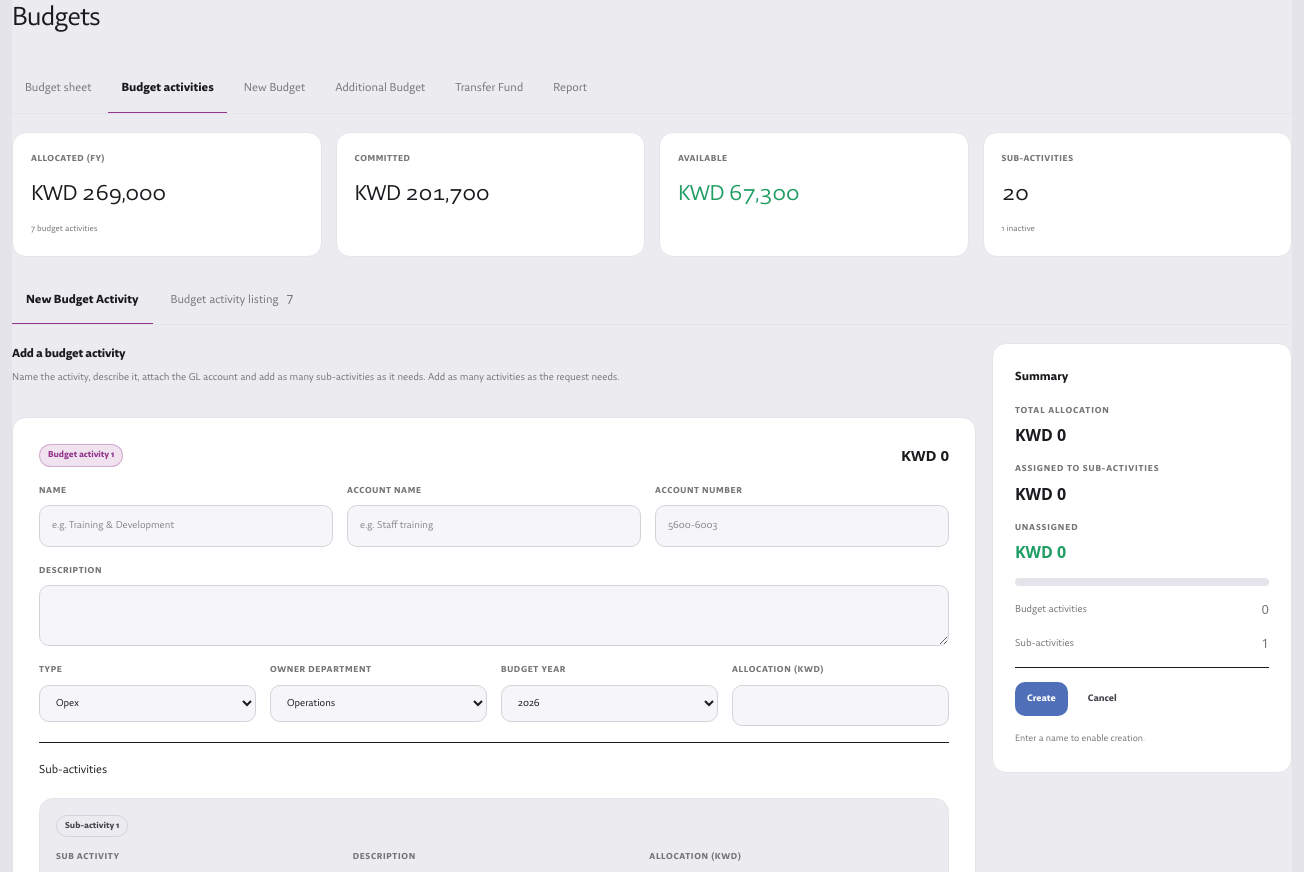
Test: HomeBudgetingPage › creates a local budget activity and exposes it in the listing
Step 1. Type "Training & Development" into the field labelled "Name" → (186, 526), box 39,505 -> 333,547
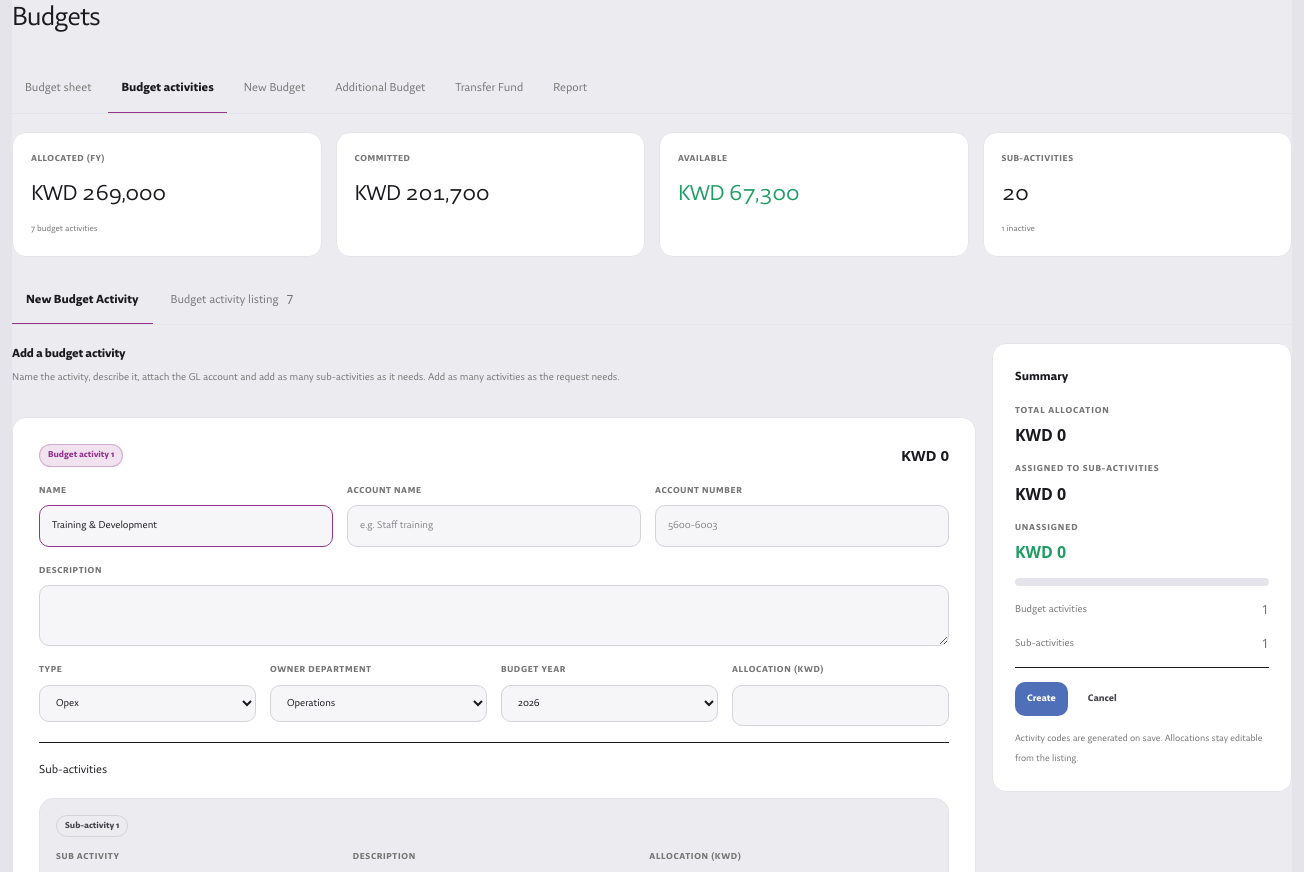
Step 2. Click the button "Create" → (1041, 699), box 1015,682 -> 1068,716
(page scrolled)
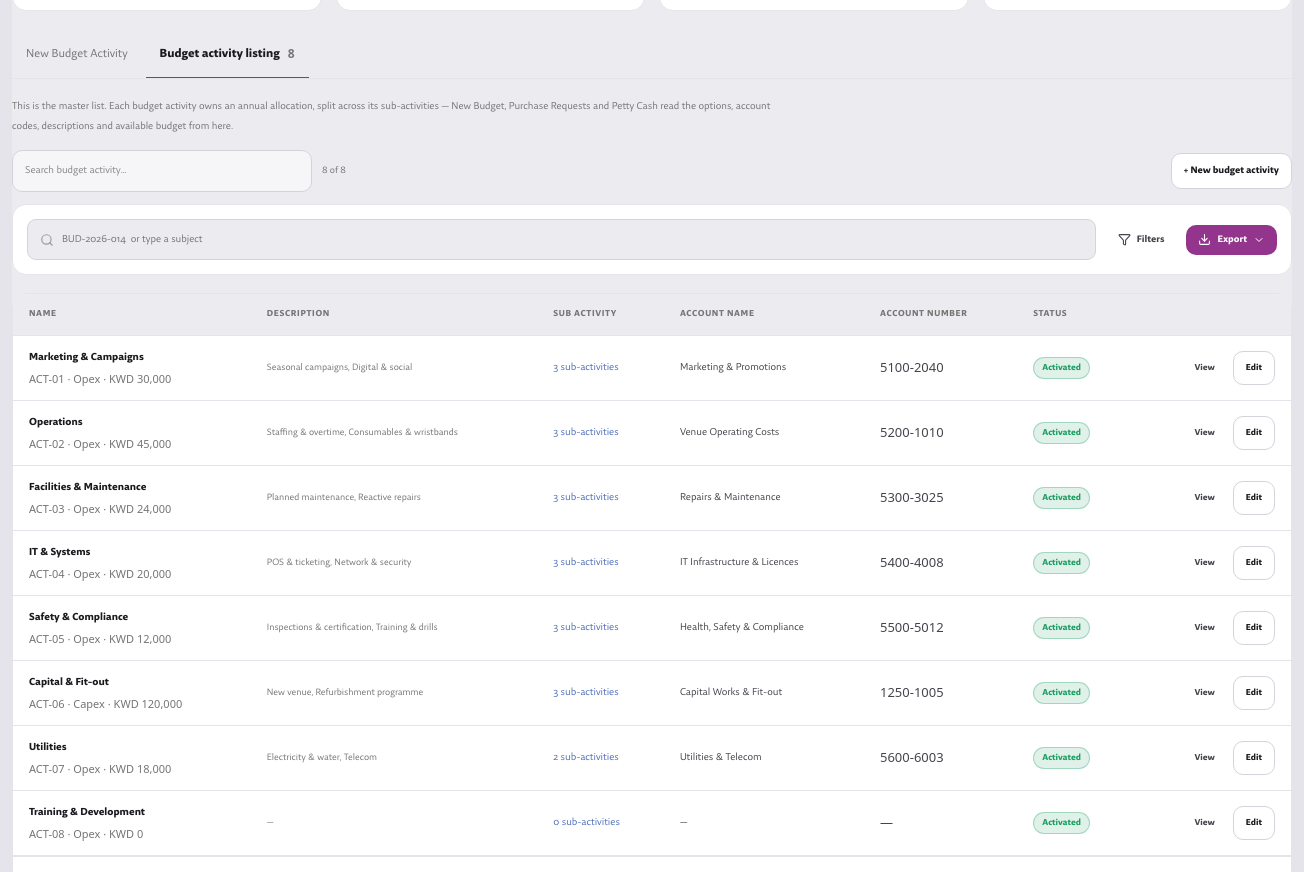
Expected: the text "Training & Development" is shown, 29,806 -> 145,819
Expected: the text "ACT-08 · Opex · KWD 0" is shown, 29,826 -> 143,841
